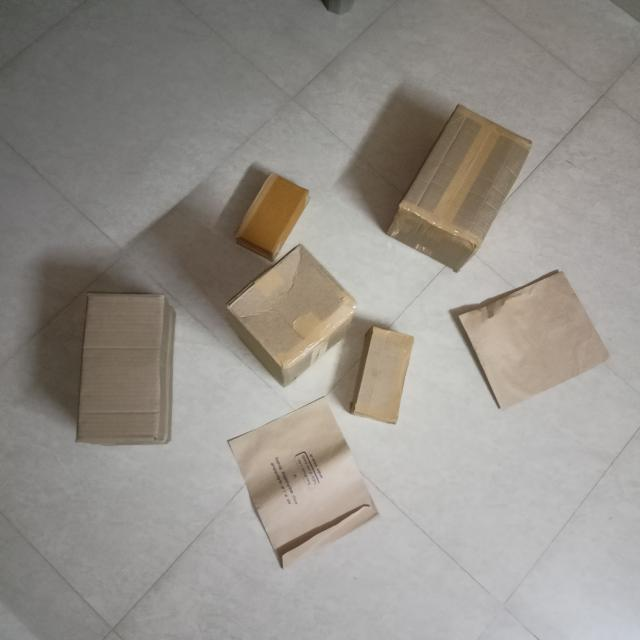box: (233, 403, 384, 574), (461, 267, 614, 414), (403, 101, 539, 244), (234, 244, 365, 370), (84, 295, 165, 452), (244, 171, 312, 258), (357, 328, 414, 424)
